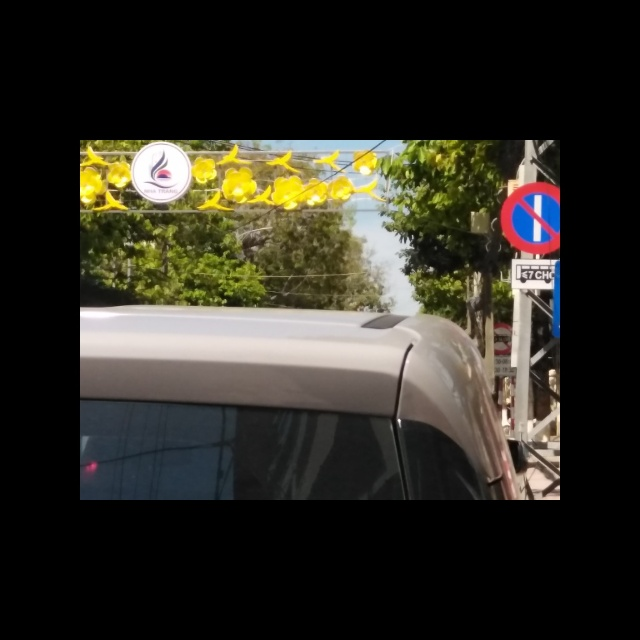Cấm đỗ xe ngày lẻ: (499, 180, 560, 256)
